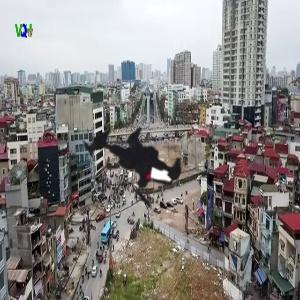drone: (54, 90, 210, 246)
